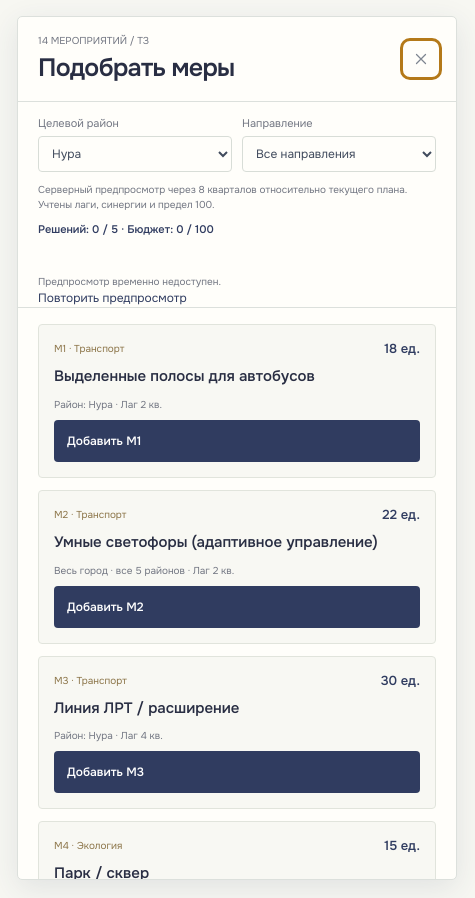
server-owned measure preview › offers retry without deriving local effects after a provider/network error
The width and height of the screenshot is (475, 898).
Expected: the message "Предпросмотр временно недоступен." is shown, [38,274,232,289]
Expected: the text "S1: 38" is not shown
Click the button "Повторить предпросмотр". click: (112, 298)
box: [38,289,187,307]
(page scrolled)
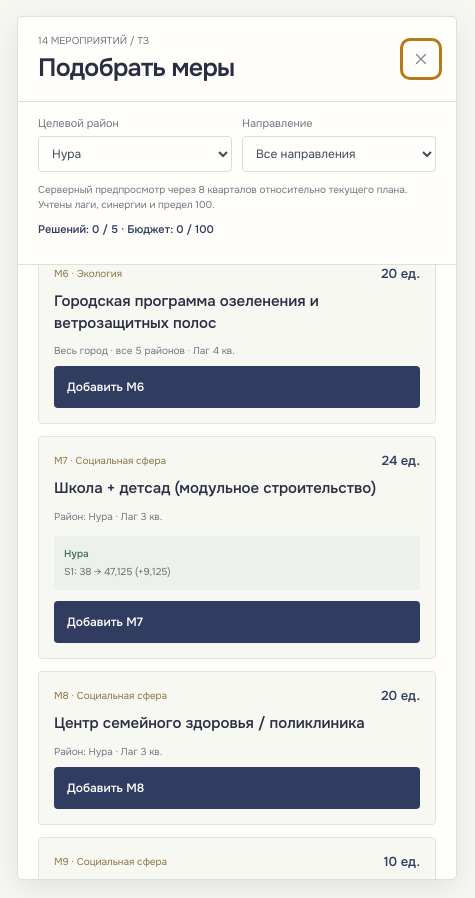
Now the text "S1: 38 → 47,125 (+9,125)" is shown, box [64,565,171,578]
Now the message "Предпросмотр временно недоступен." is gone
